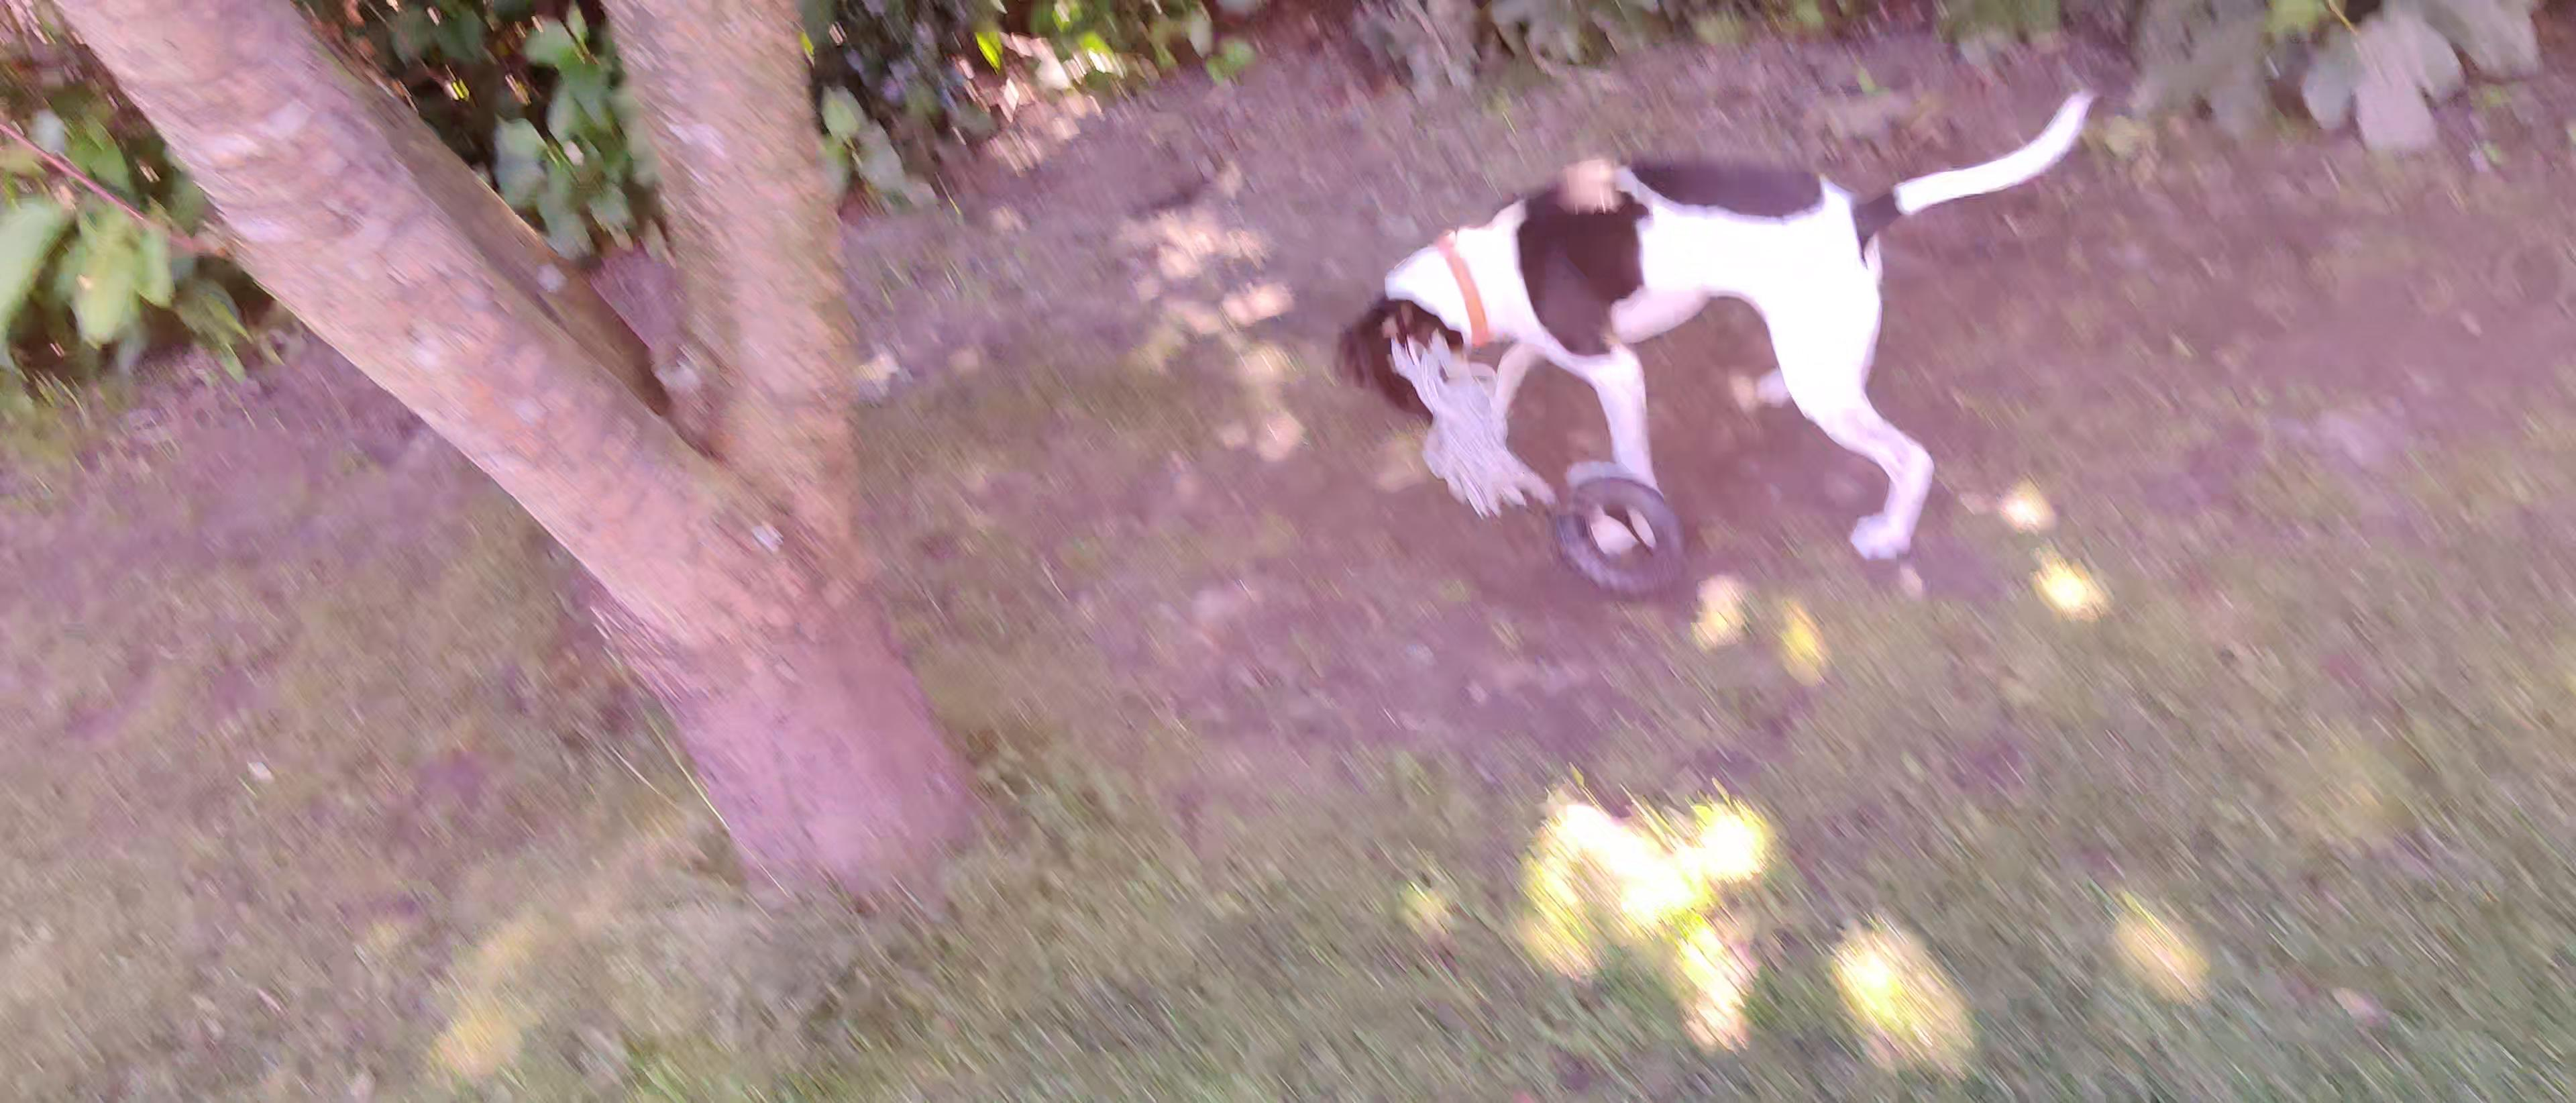Dog: (1334, 77, 2103, 569)
